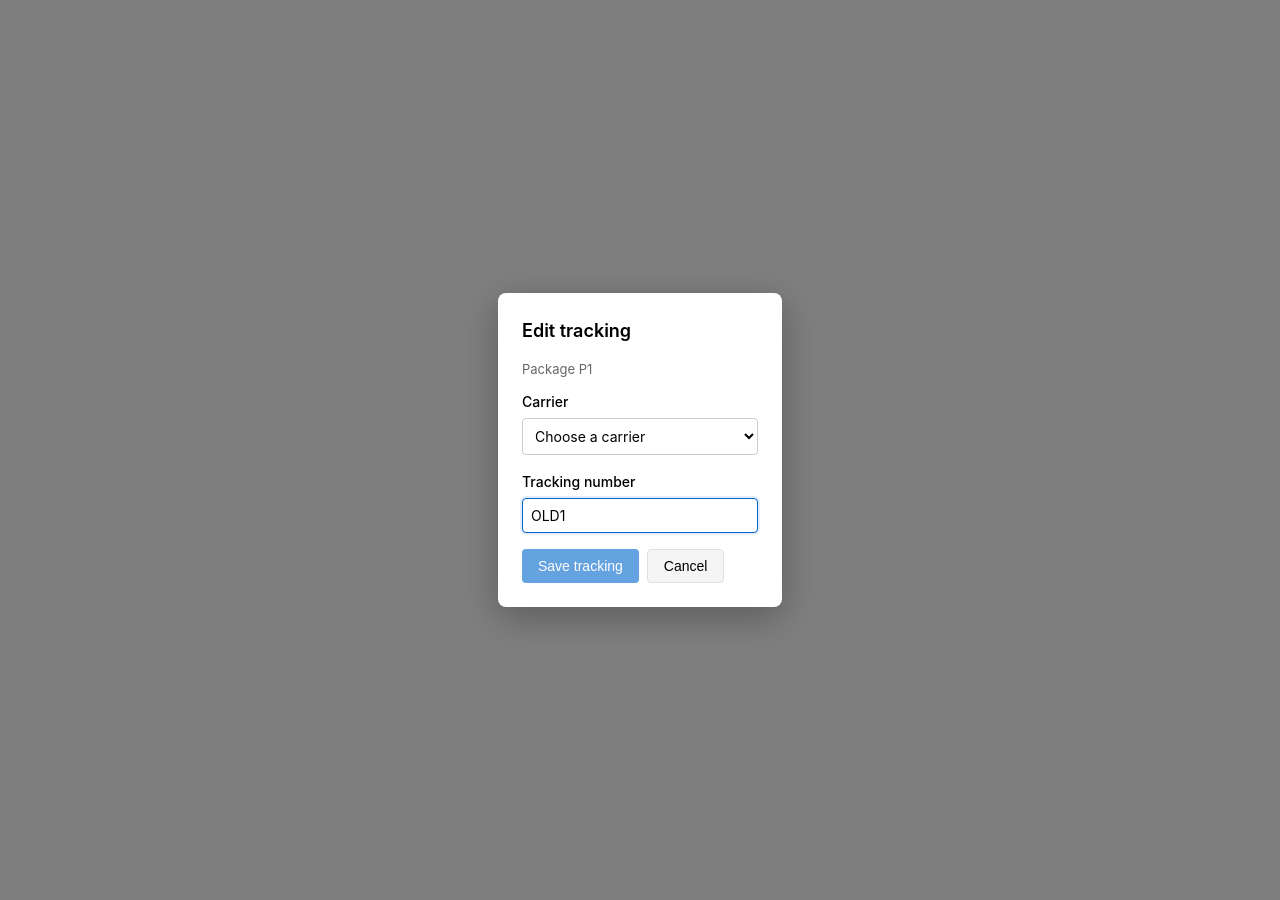
SellerShipDialog › edits tracking with PUT and shows TikTok errors
The width and height of the screenshot is (1280, 900).
expect the field labelled "Tracking number" holds "OLD1": met, box x1=522 y1=498 x2=758 y2=533
Select "Flash" in the dropdown labelled "Carrier": point(640, 437) x1=522 y1=418 x2=758 y2=455
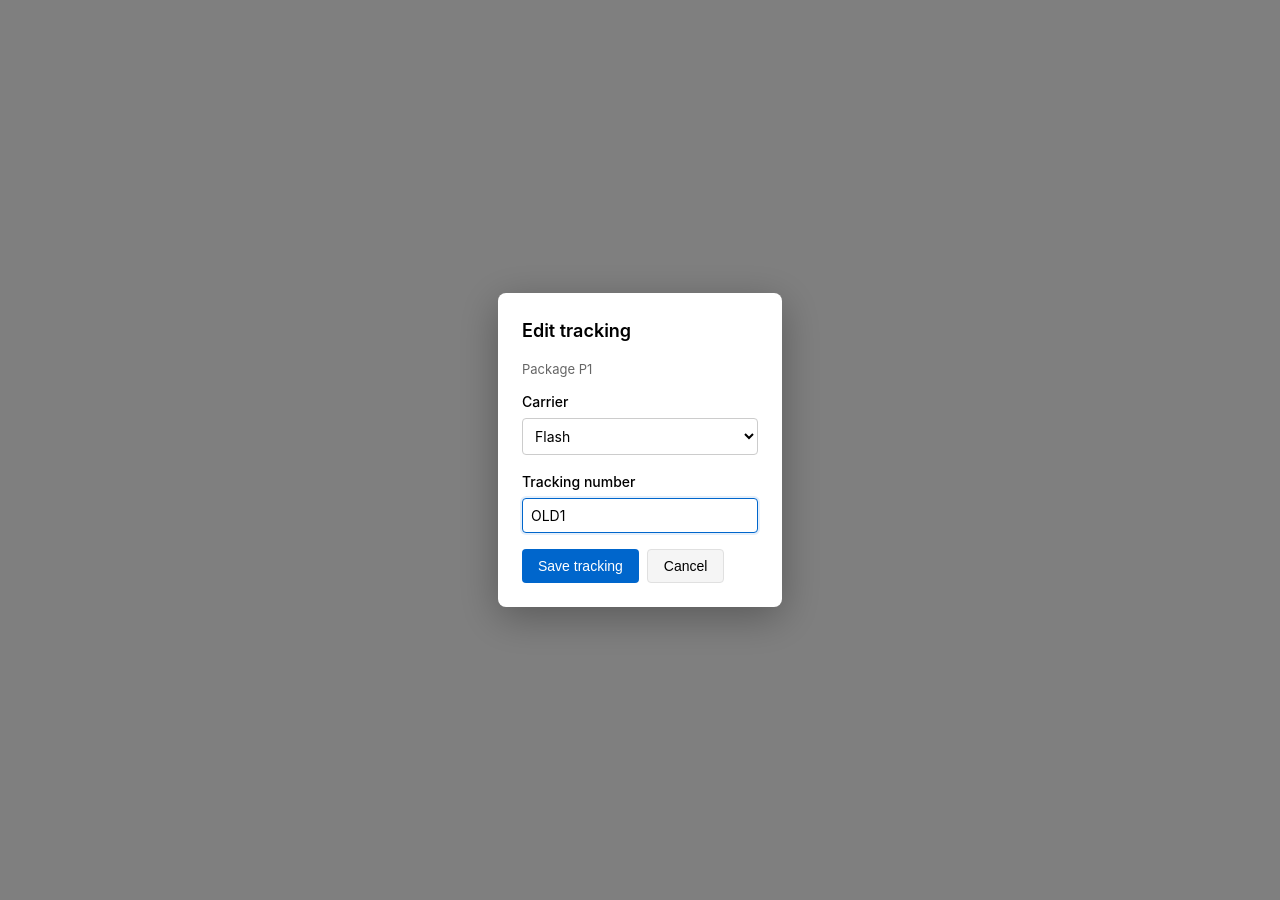
Click the button "Save tracking": point(580, 566) x1=522 y1=549 x2=639 y2=583
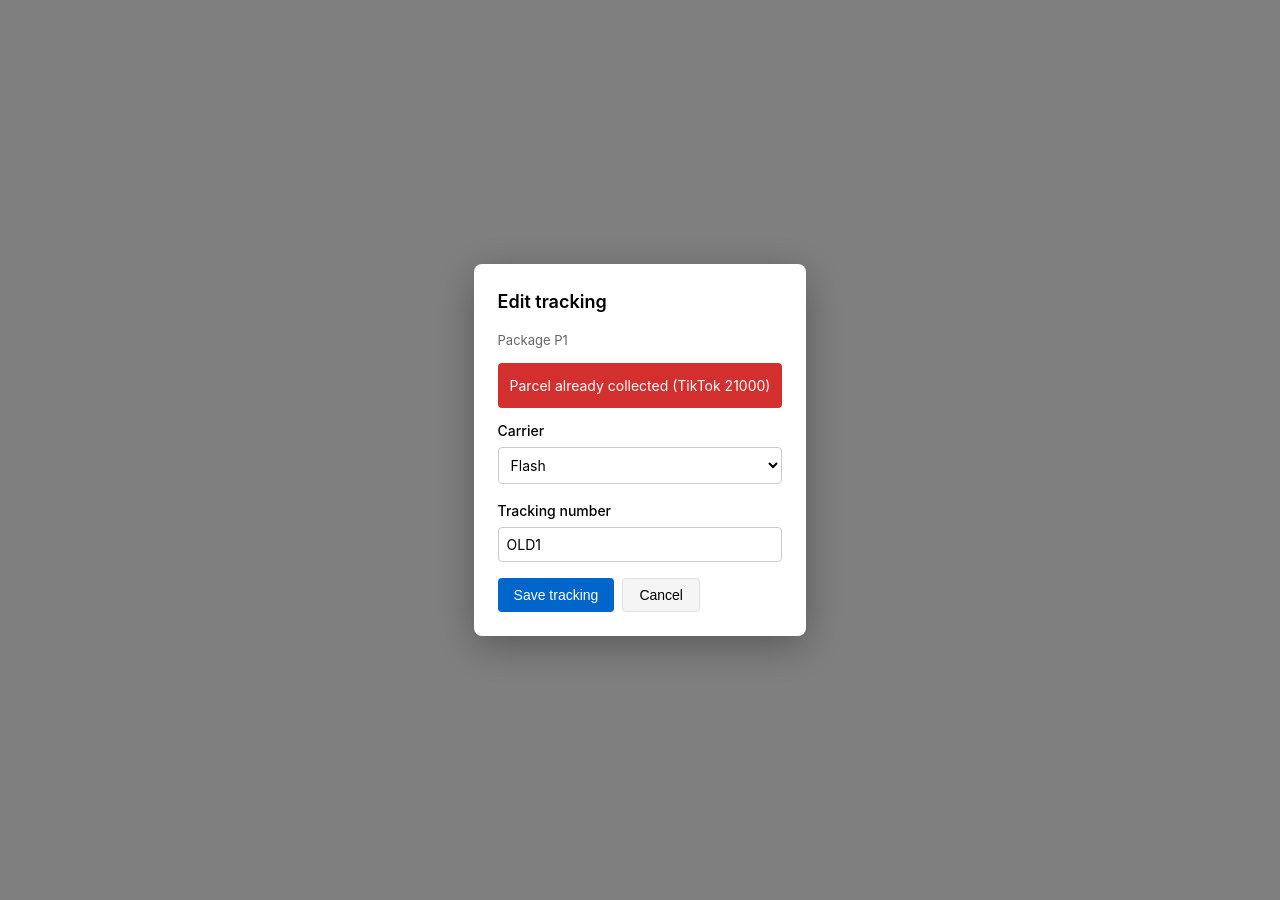
expect the message reads "Parcel already collected (TikTok 21000)": met, box x1=510 y1=377 x2=770 y2=394
